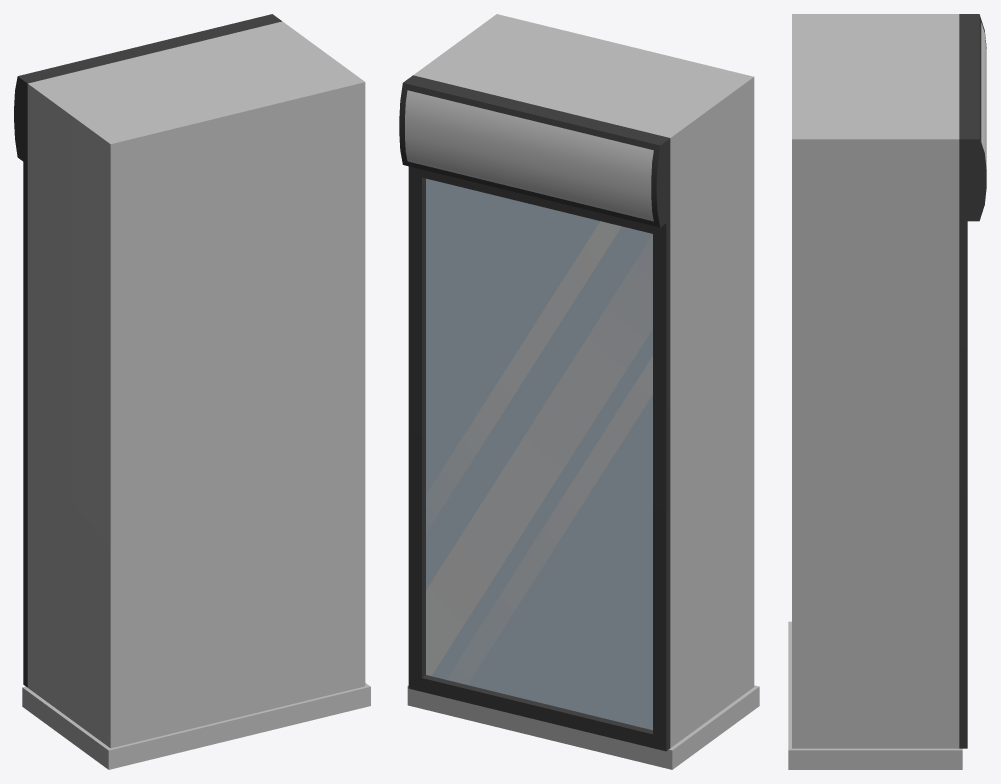
File: Fridge.fbx
The picture shows the model from 3 angles, left to right: view 1: azimuth 30°, elevation 25°; view 2: azimuth 150°, elevation 25°; view 3: azimuth 270°, elevation 25°; orthographic projection.
Parts seen in each view (by area): view 1: Fridge; view 2: Fridge; view 3: Fridge.
Boxes of the visible parts, x1=… form: Fridge: x1=14, y1=14, x2=370, y2=769; Fridge: x1=399, y1=14, x2=759, y2=769; Fridge: x1=788, y1=14, x2=986, y2=769.
Bounding box in the file's own units: 228 × 518 × 148.
